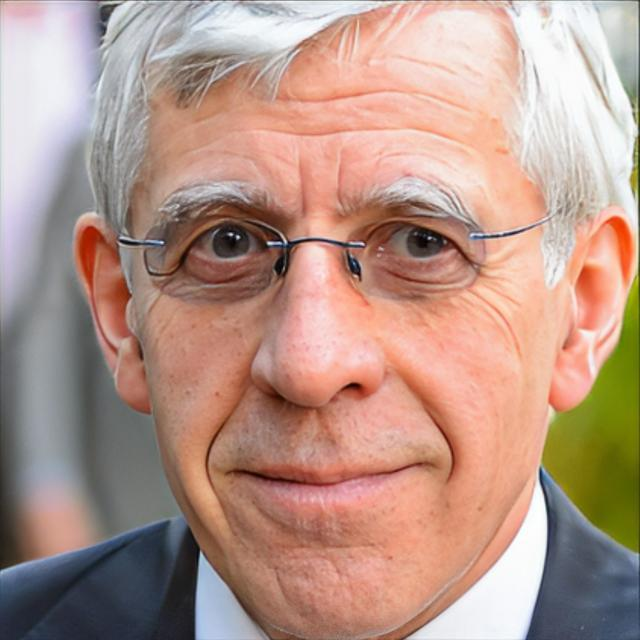content: (132, 0, 559, 639)
